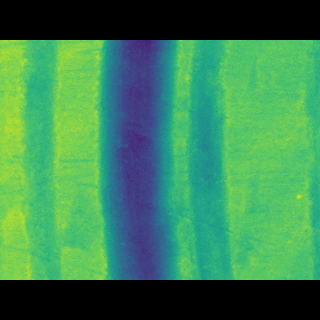Loch: (0, 70, 239, 250)
